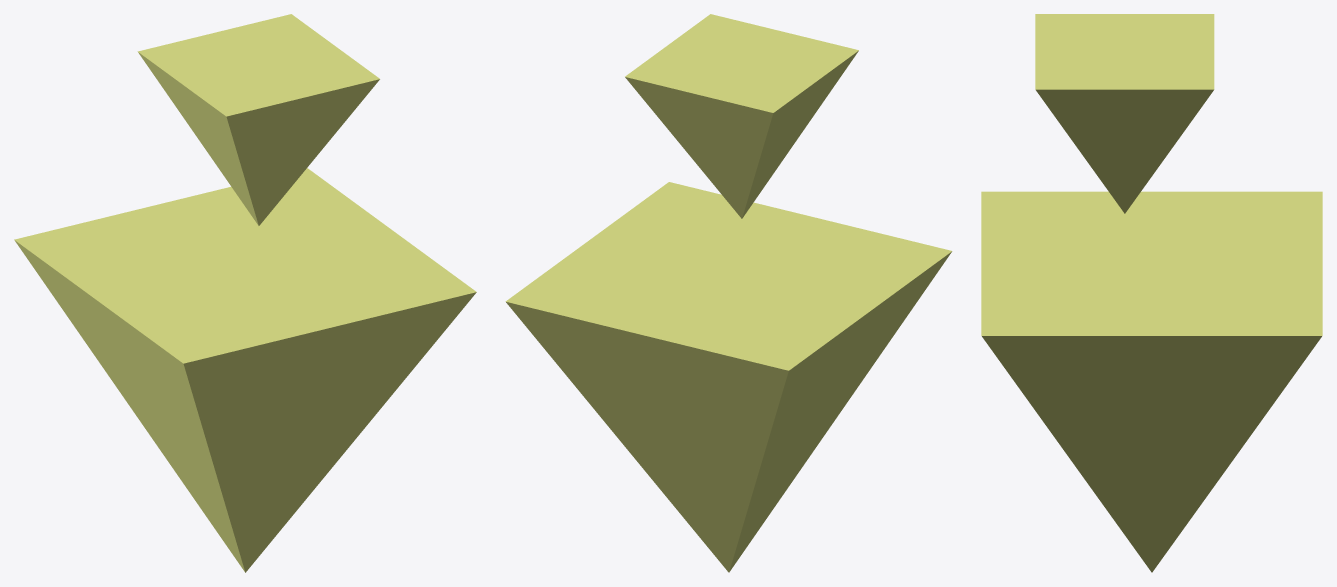
Rendered from PlayerPiramid.fbx.
The picture shows the model from 3 angles, left to right: view 1: azimuth 30°, elevation 25°; view 2: azimuth 150°, elevation 25°; view 3: azimuth 270°, elevation 25°; orthographic projection. The views are drawn at different scales.
Visible parts, largest first — view 1: Torzo.002, Head.002; view 2: Torzo.002, Head.002; view 3: Torzo.002, Head.002.
Boxes of the visible parts, x1,y1,x2,y2 form: Torzo.002: (14,168,476,572); Head.002: (137,14,379,225); Torzo.002: (505,182,952,572); Head.002: (625,14,858,218); Torzo.002: (981,191,1322,572); Head.002: (1035,14,1214,213).
Bounding box in the file's own units: 141 × 237 × 141.
